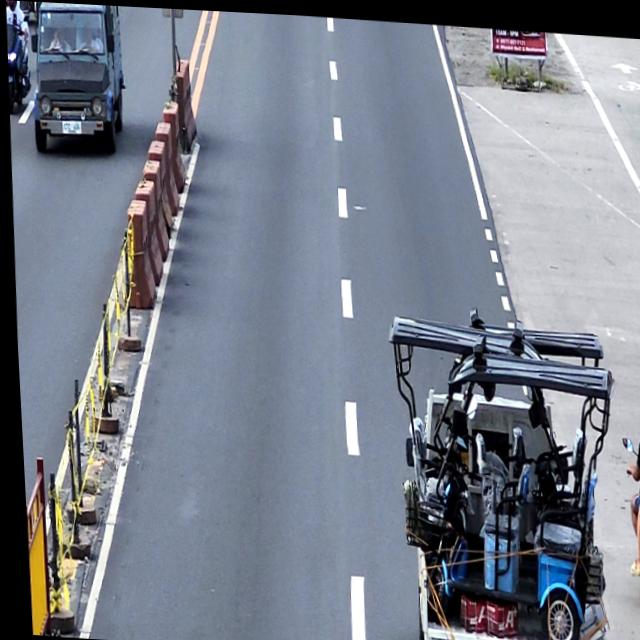Jeep: (26, 1, 127, 156)
License-Plate: (59, 117, 81, 134)
Motorcycle: (613, 428, 640, 612), (5, 18, 33, 114)
Truck: (378, 299, 623, 640)
